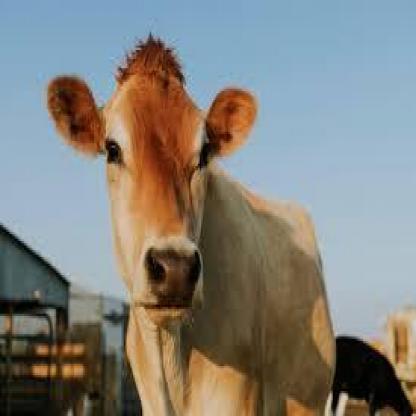cow: (45, 41, 336, 416), (333, 336, 416, 416)
